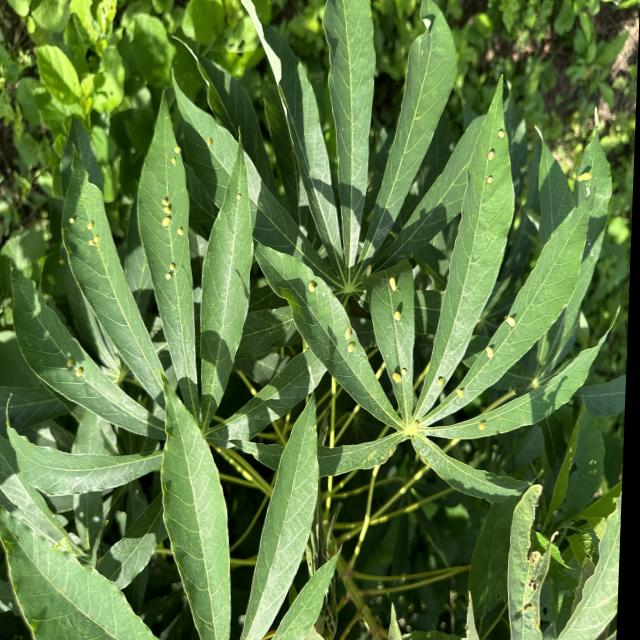Maleza: (0, 61, 130, 170)
Mosaico: (0, 0, 196, 88)
Mosca: (153, 194, 184, 239), (53, 353, 90, 380), (479, 144, 499, 191), (569, 161, 601, 187), (162, 138, 190, 167), (78, 220, 104, 250), (346, 324, 365, 359), (475, 335, 499, 362), (386, 359, 406, 387), (164, 261, 184, 288), (302, 272, 321, 298), (502, 307, 521, 332), (385, 301, 404, 326), (197, 128, 218, 150), (232, 181, 252, 204), (385, 266, 406, 286), (449, 380, 464, 401), (472, 415, 489, 427), (499, 125, 510, 142)
